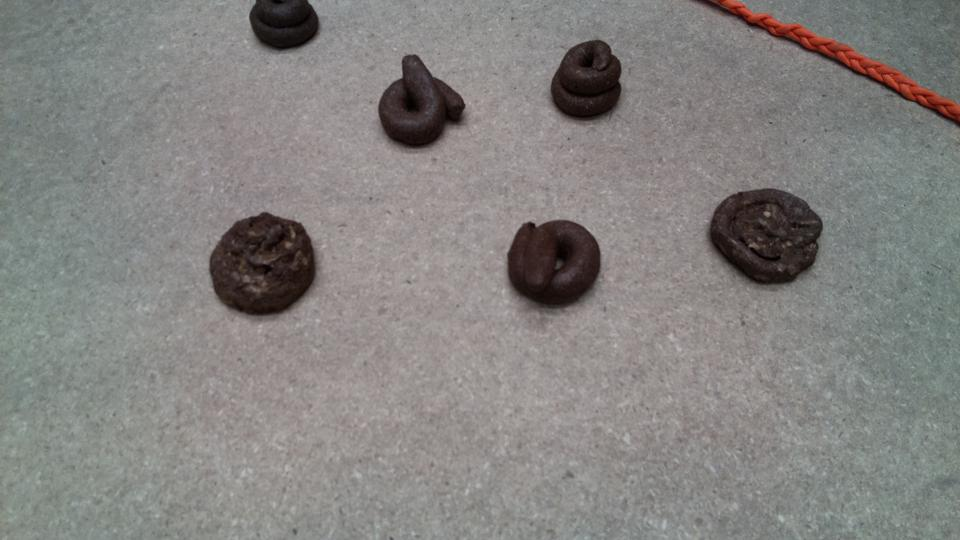poop: (206, 209, 319, 322), (706, 186, 826, 289), (373, 50, 468, 153), (505, 215, 603, 311), (549, 37, 626, 123), (246, 1, 326, 55)
rope: (717, 1, 960, 111)
